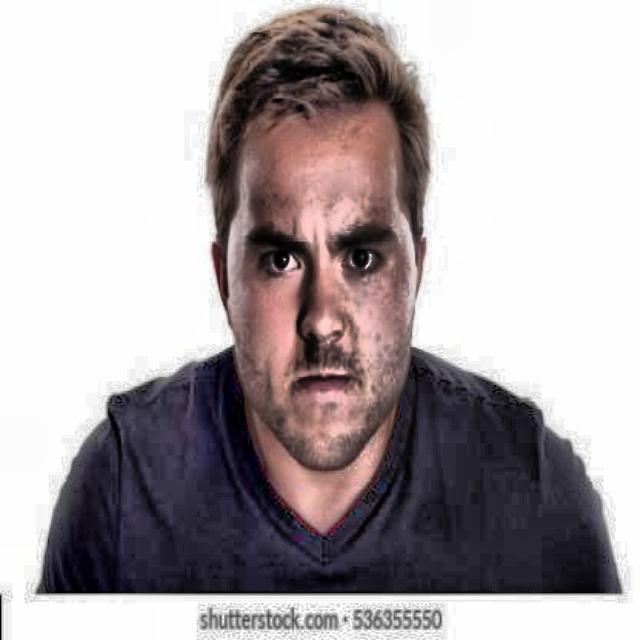angry: (185, 1, 446, 496)
